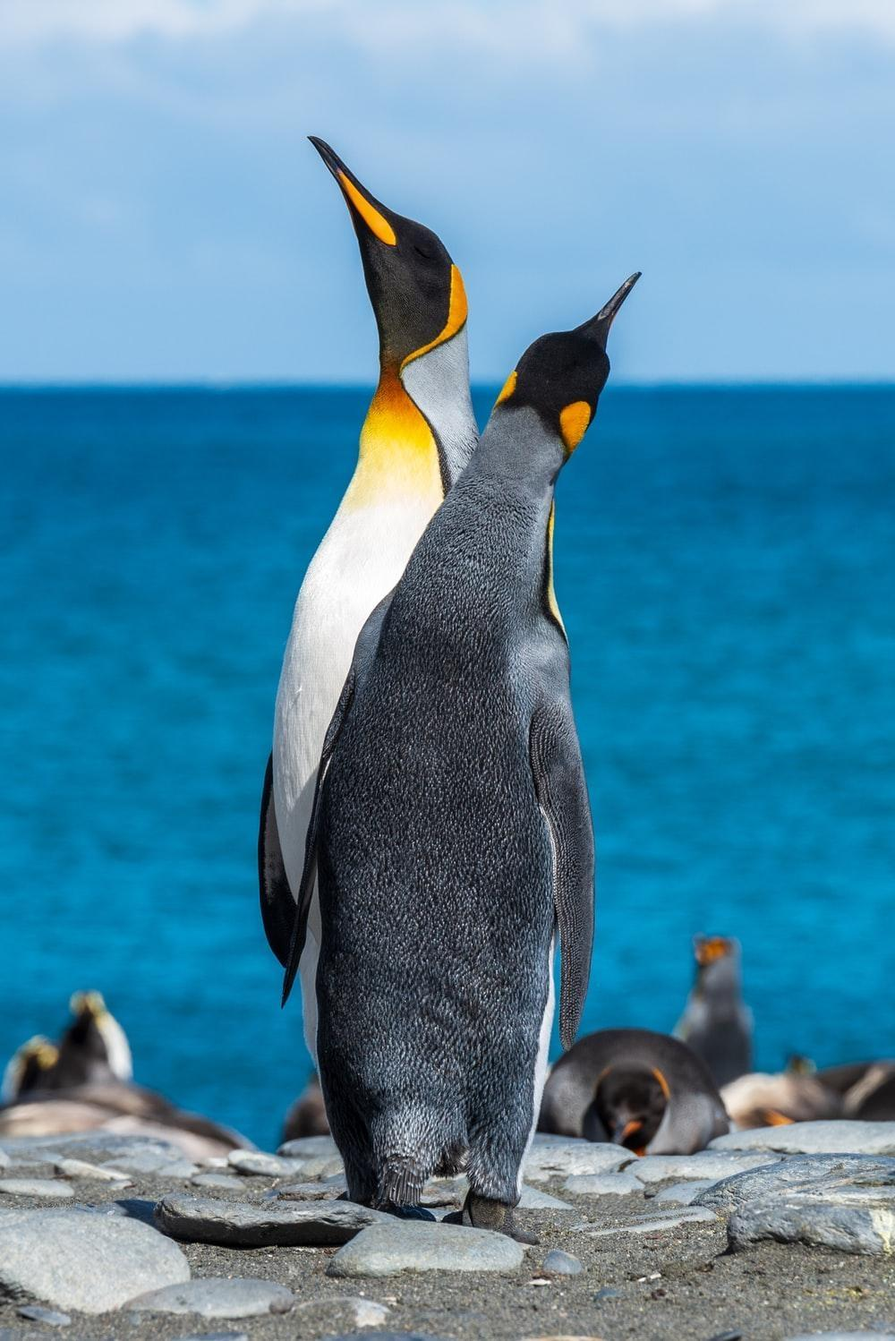Penguin: (279, 280, 632, 1244), (260, 136, 479, 1075), (541, 1028, 735, 1155)
